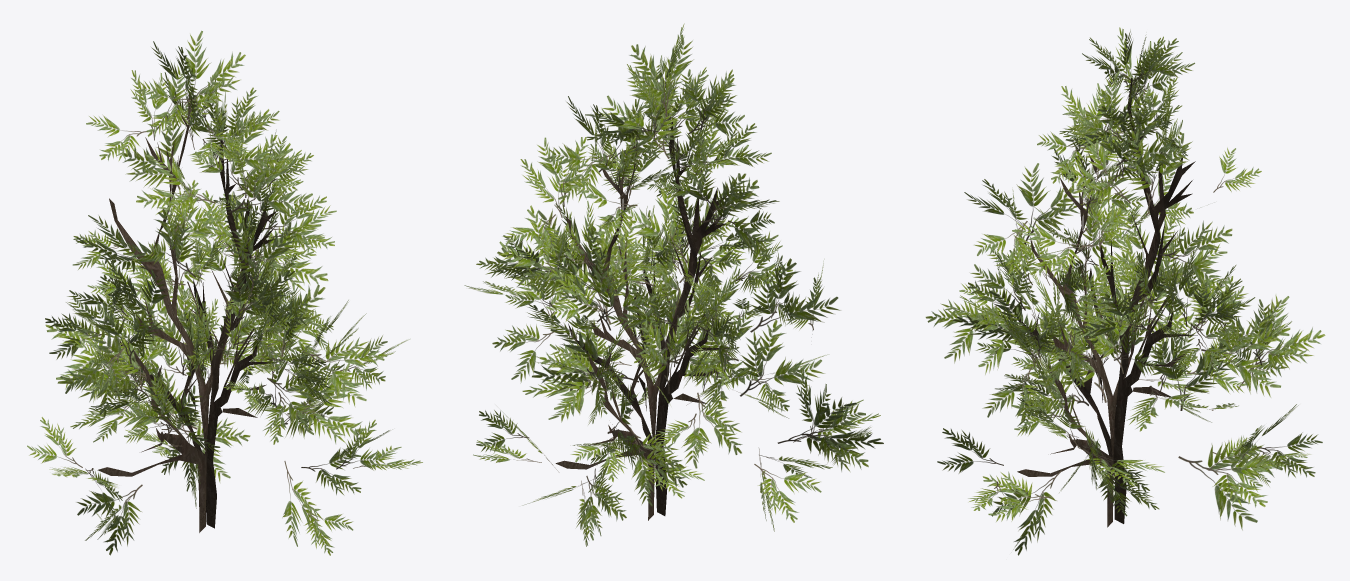
File: tree-1-lite.glb
3 views of the same model, side by side, from view 1: azimuth 30°, elevation 25°; view 2: azimuth 150°, elevation 25°; view 3: azimuth 270°, elevation 25° (orthographic). The views are drawn at different scales.
Visible parts, largest first — view 1: leaves, bark; view 2: leaves, bark; view 3: leaves, bark.
Part boxes in pixels (x1,y1,x2,y2): leaves: (27,30,422,555); bark: (97,93,278,532); leaves: (464,23,883,546); bark: (555,122,729,520); leaves: (925,27,1325,555); bark: (1017,78,1197,527).
Size of the model in its own units: 0.8133 by 1.04 by 0.766.
Materials: 2 (2 with a texture image).
